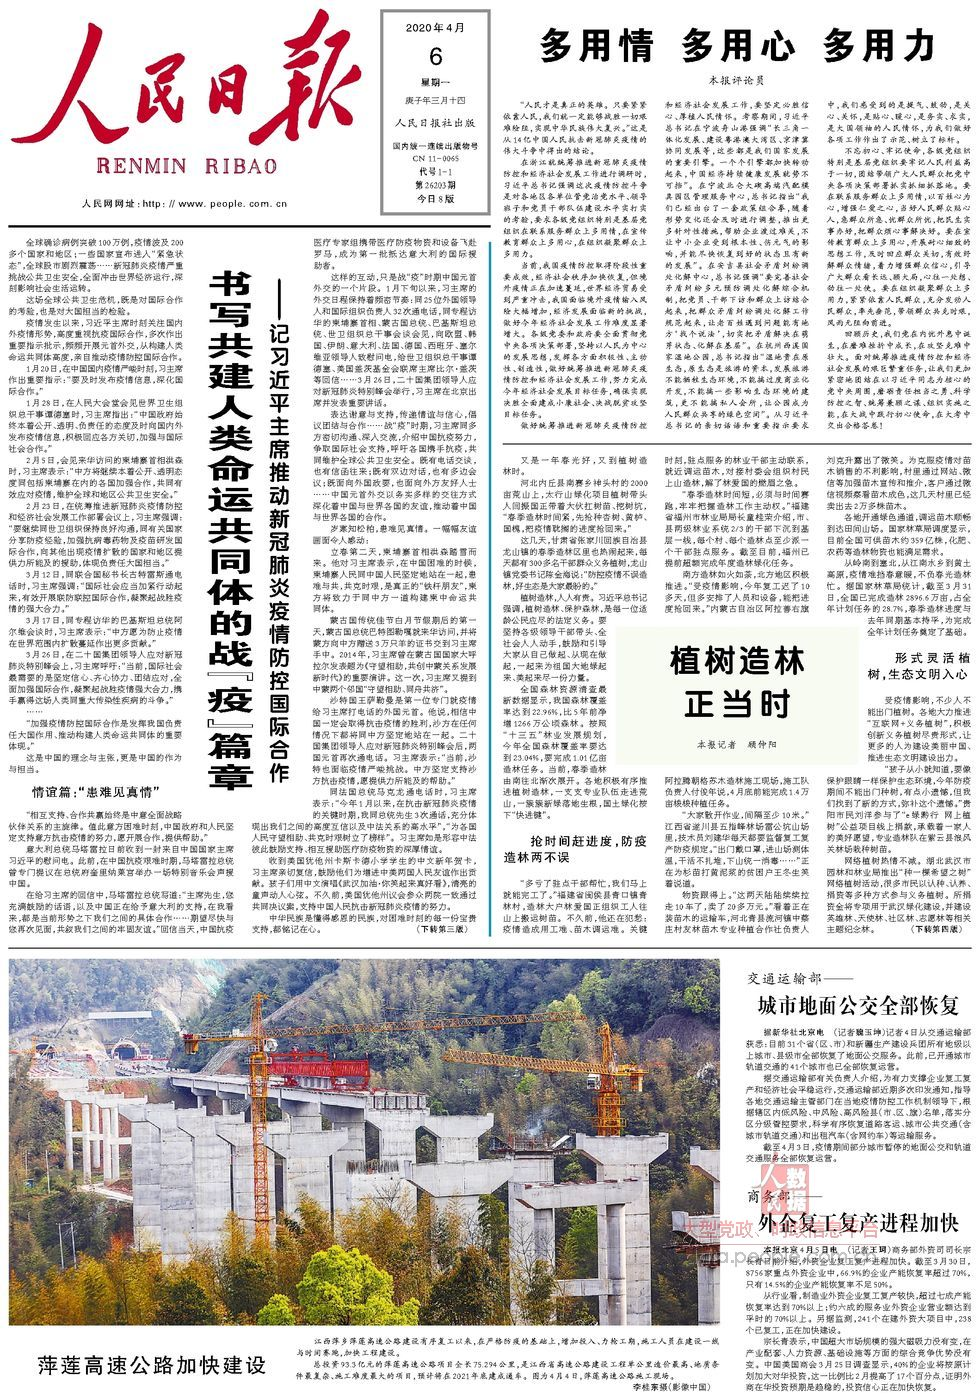pic: (6, 954, 727, 1331)
